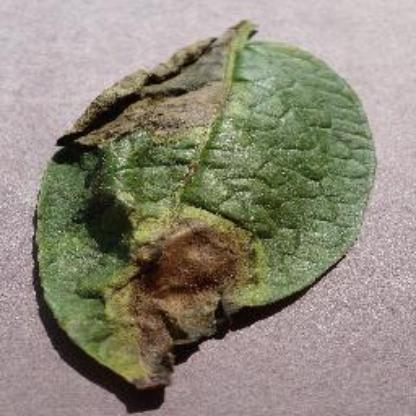Late-Blight: (32, 19, 378, 396)
